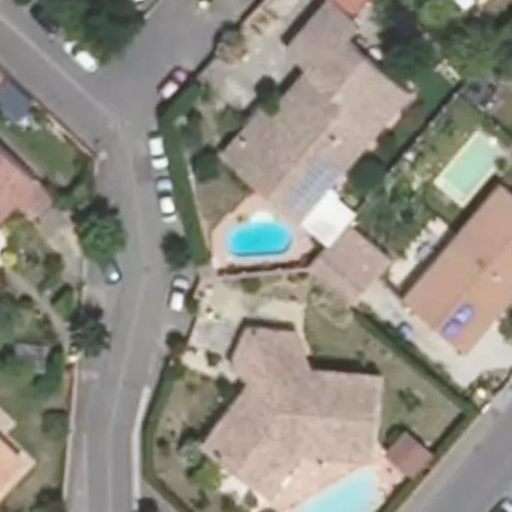pool: (222, 232, 290, 252)
